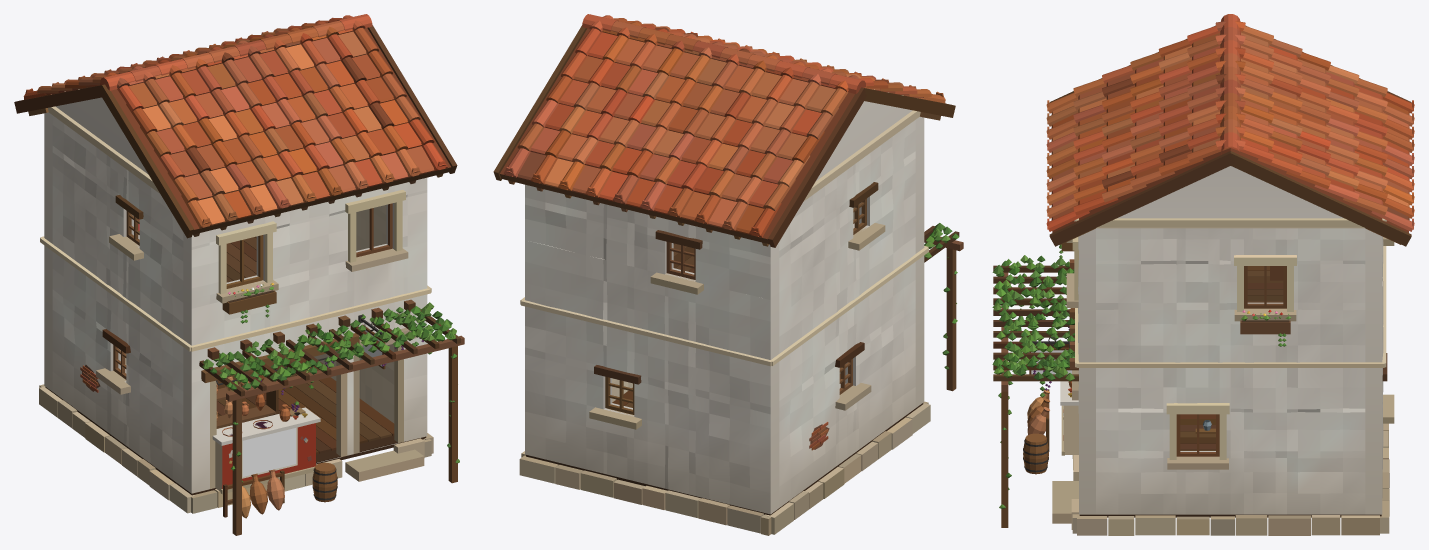
The model's file is shop_wineshop.glb.
3 renders of one model, left to right at view 1: azimuth 30°, elevation 25°; view 2: azimuth 150°, elevation 25°; view 3: azimuth 270°, elevation 25°, orthographic. The views are drawn at different scales.
Parts seen in each view (by area): view 1: House, Walls, Rooms; view 2: Walls, House, Rooms; view 3: House, Walls, Rooms.
Boxes of the visible parts, x1,y1,x2,y2 form: House: [14, 14, 464, 535]; Walls: [44, 97, 427, 493]; Rooms: [125, 205, 394, 454]; Walls: [525, 101, 924, 514]; House: [493, 14, 963, 535]; Rooms: [612, 207, 854, 407]; House: [992, 14, 1414, 535]; Walls: [1078, 166, 1383, 514]; Rooms: [1180, 266, 1283, 450].
Bounding box in the file's own units: 4.11 × 5.58 × 5.43.
6 materials, 6 textured.
